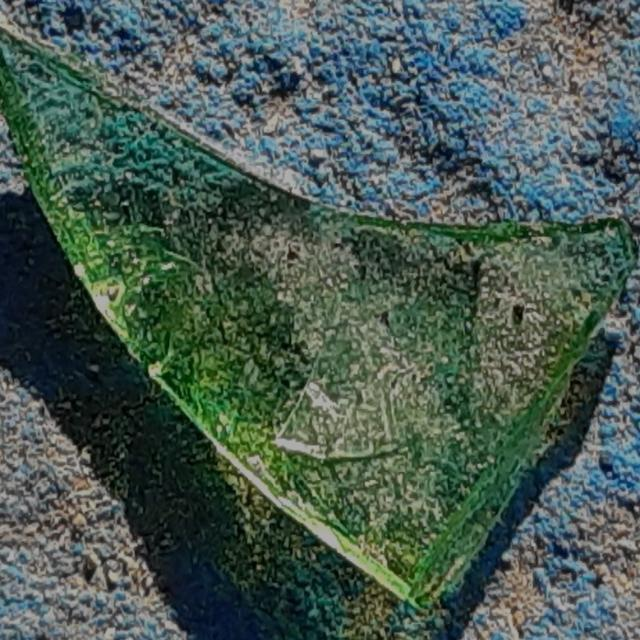Dry: (225, 190, 563, 488), (82, 121, 268, 376), (293, 437, 472, 603), (0, 0, 111, 220), (533, 217, 635, 340)
